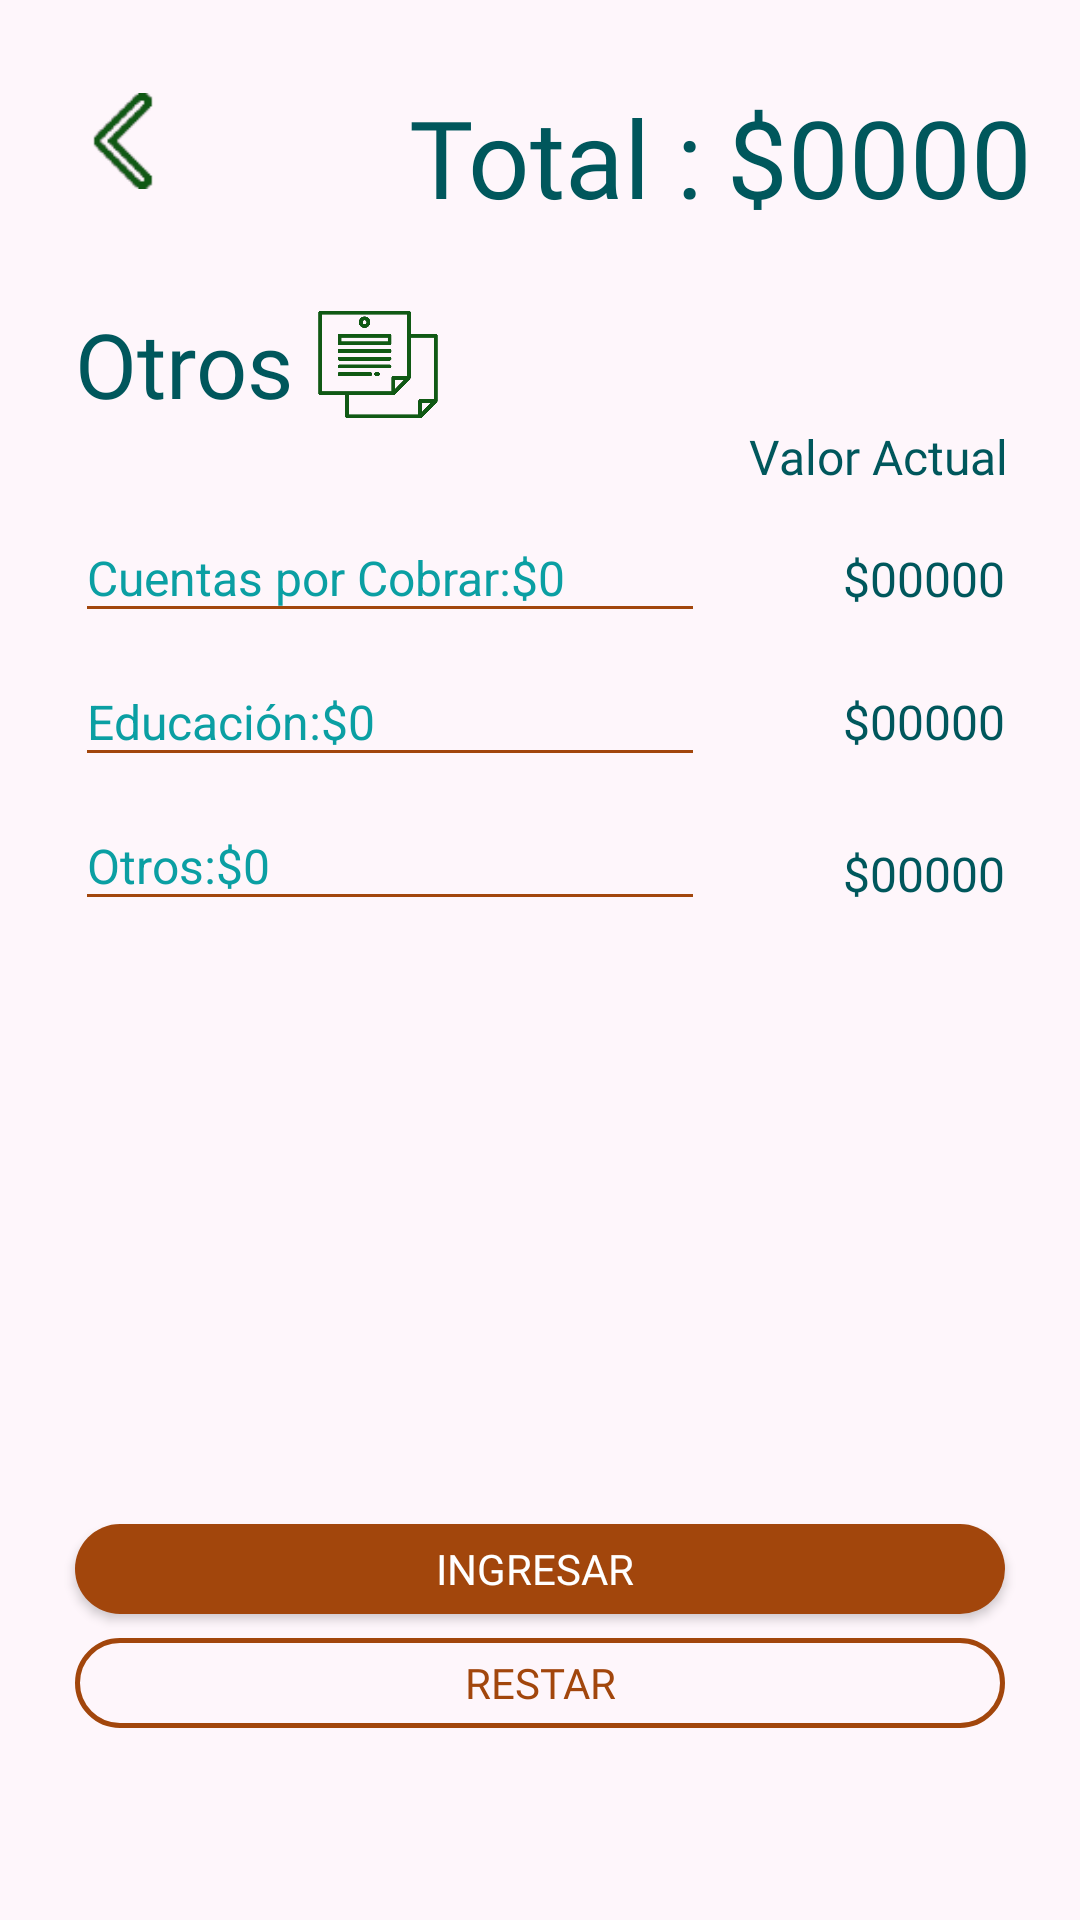

Screen size 1080*1920. Icon name, then its center in pixels as [x,y]:
flecha: [123,141]
